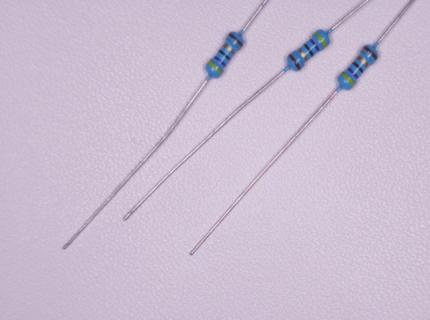Black band: (351, 61, 364, 74), (303, 43, 315, 57), (218, 49, 231, 61)
Brown band: (228, 32, 244, 48), (288, 54, 302, 71)
Gold band: (363, 46, 378, 61), (222, 43, 236, 56), (356, 55, 369, 69), (297, 48, 309, 62)
Violet band: (214, 55, 227, 68), (346, 67, 359, 80), (309, 38, 320, 52)
Yellow band: (313, 31, 329, 49), (206, 60, 223, 76), (340, 72, 356, 88)
